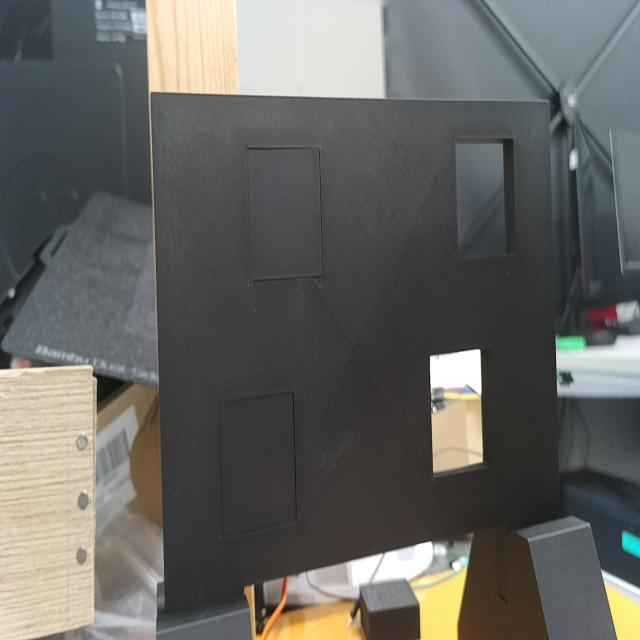Obstacle: (429, 348, 489, 472), (455, 137, 516, 254)
Wall: (153, 93, 563, 611)
